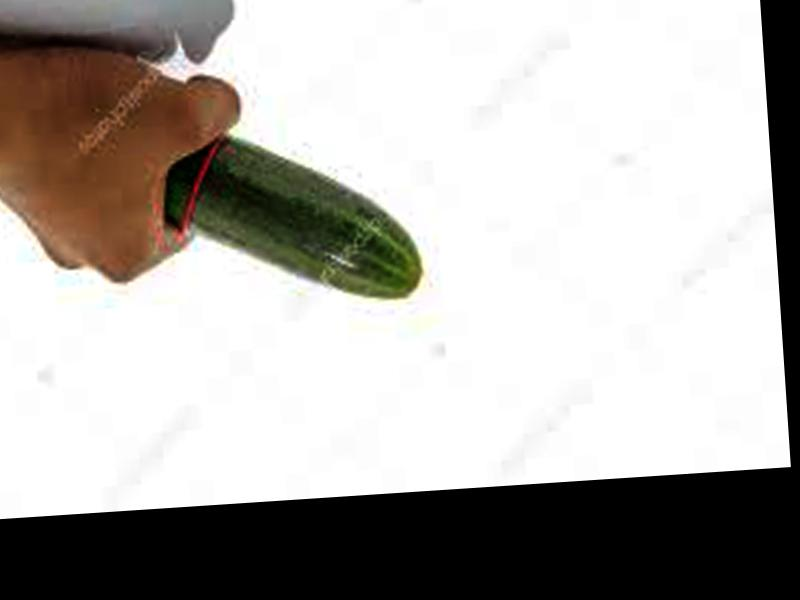Cucumber: (160, 125, 423, 313)
